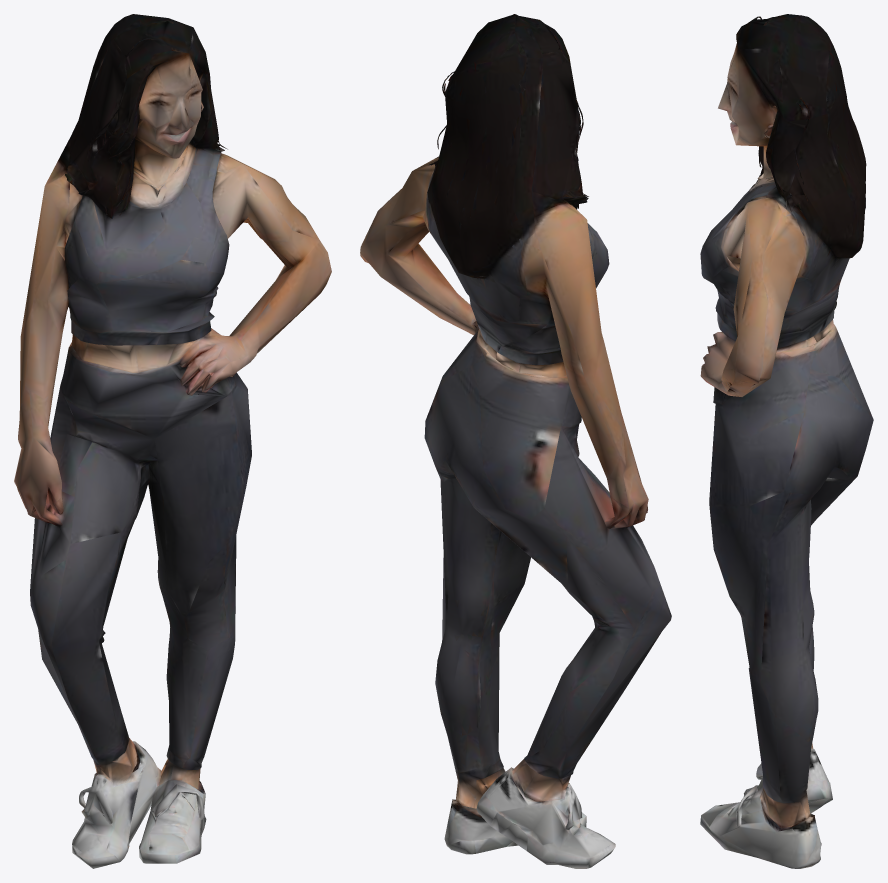
Rendered from ppl_fit.glb.
The picture shows the model from 3 angles, left to right: view 1: azimuth 30°, elevation 25°; view 2: azimuth 150°, elevation 25°; view 3: azimuth 270°, elevation 25°; orthographic projection.
Parts seen in each view (by area): view 1: fitness_248_0; view 2: fitness_248_0; view 3: fitness_248_0.
Part boxes in pixels (x1,y1,x2,y2): fitness_248_0: (14,14,331,868); fitness_248_0: (360,14,671,868); fitness_248_0: (700,14,873,868).
Bounding box in the file's own units: 0.6217 × 1.64 × 0.3128.
1 material, 1 textured.
